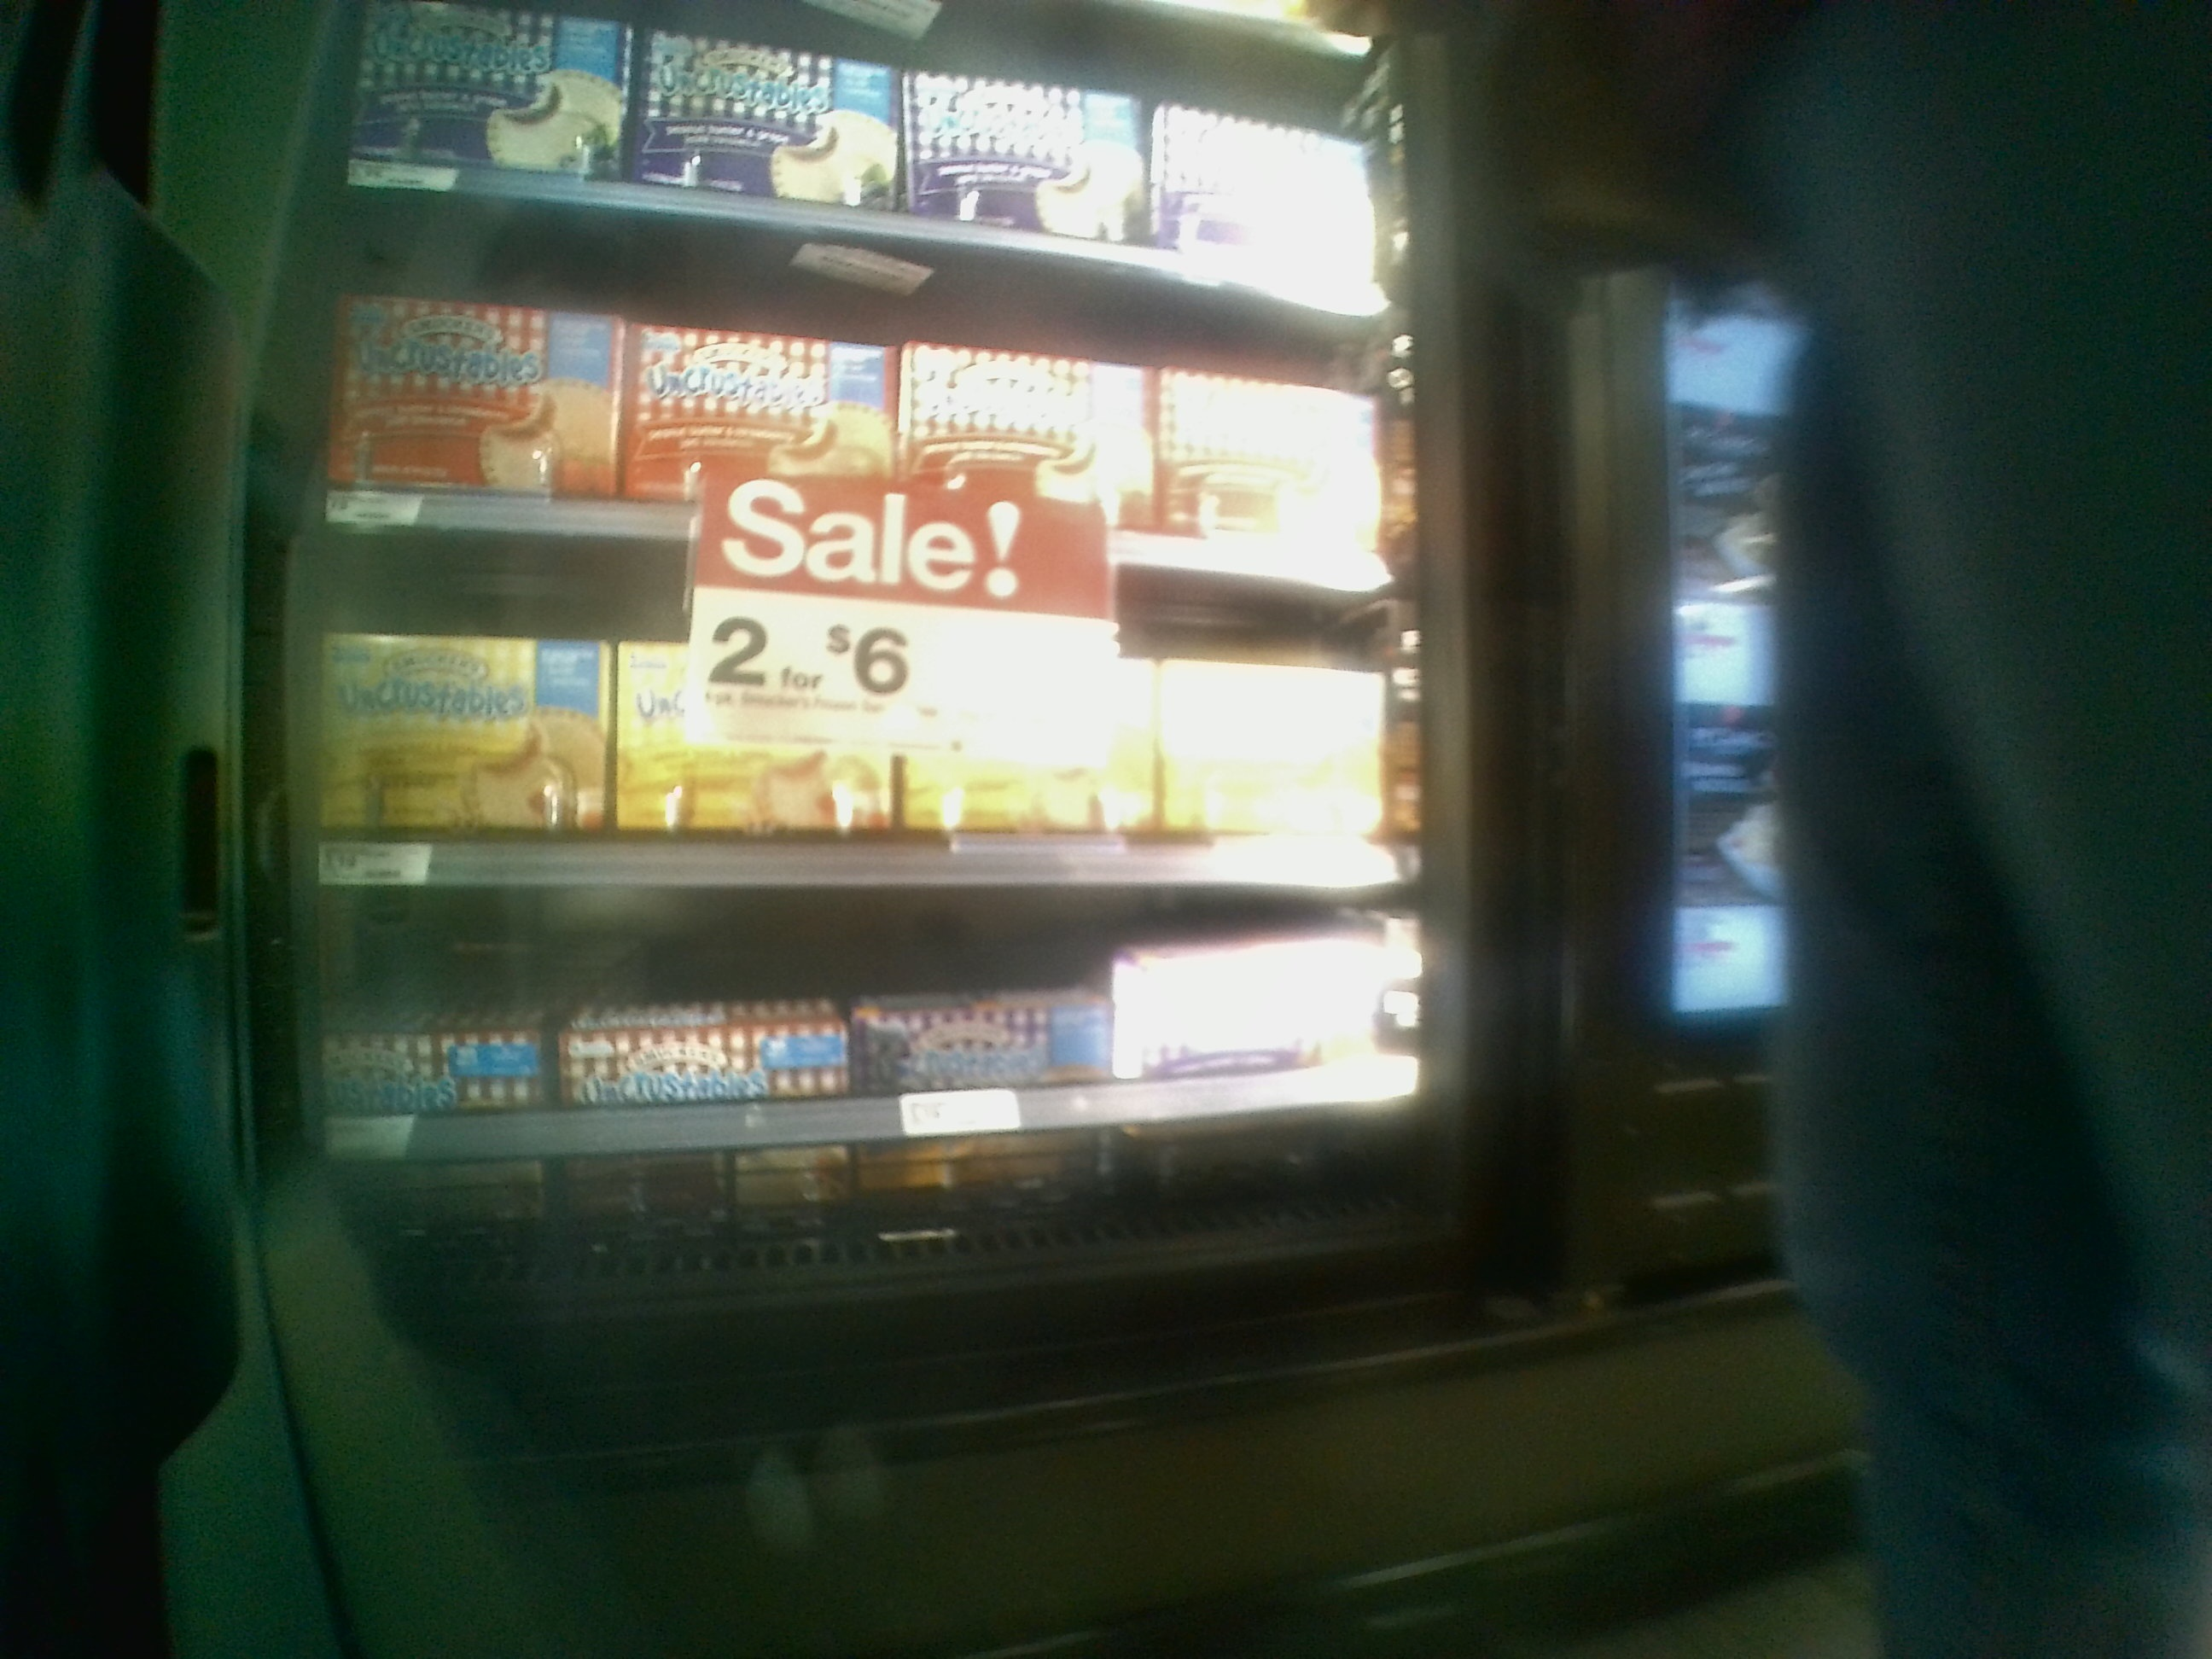shelf: (294, 188, 1395, 594), (273, 545, 1433, 901), (268, 892, 1428, 1138)
